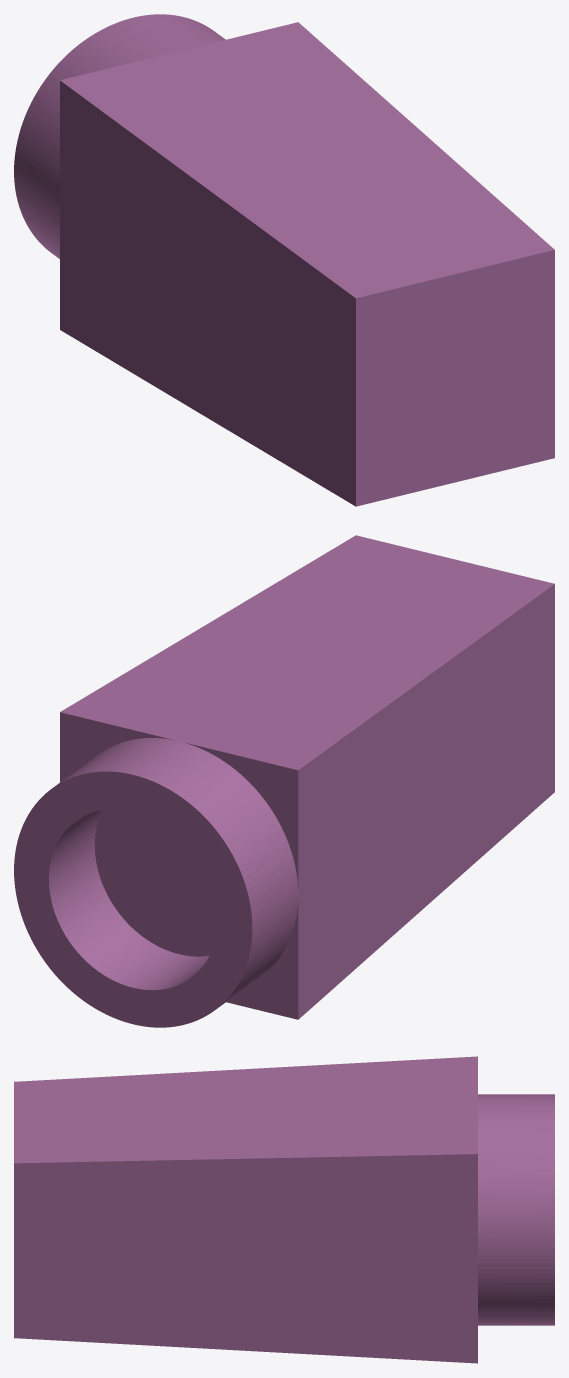
3 views of the same model, one above another, from view 1: azimuth 30°, elevation 25°; view 2: azimuth 150°, elevation 25°; view 3: azimuth 270°, elevation 25° (orthographic). The views are drawn at different scales.
Visible parts, largest first — view 1: node; view 2: node; view 3: node.
Boxes of the visible parts, x1,y1,x2,y2 form: node: (14,14,554,506); node: (14,535,554,1027); node: (14,1056,554,1363).
Size of the model in its own units: 0.0498 by 0.0498 by 0.1166.
